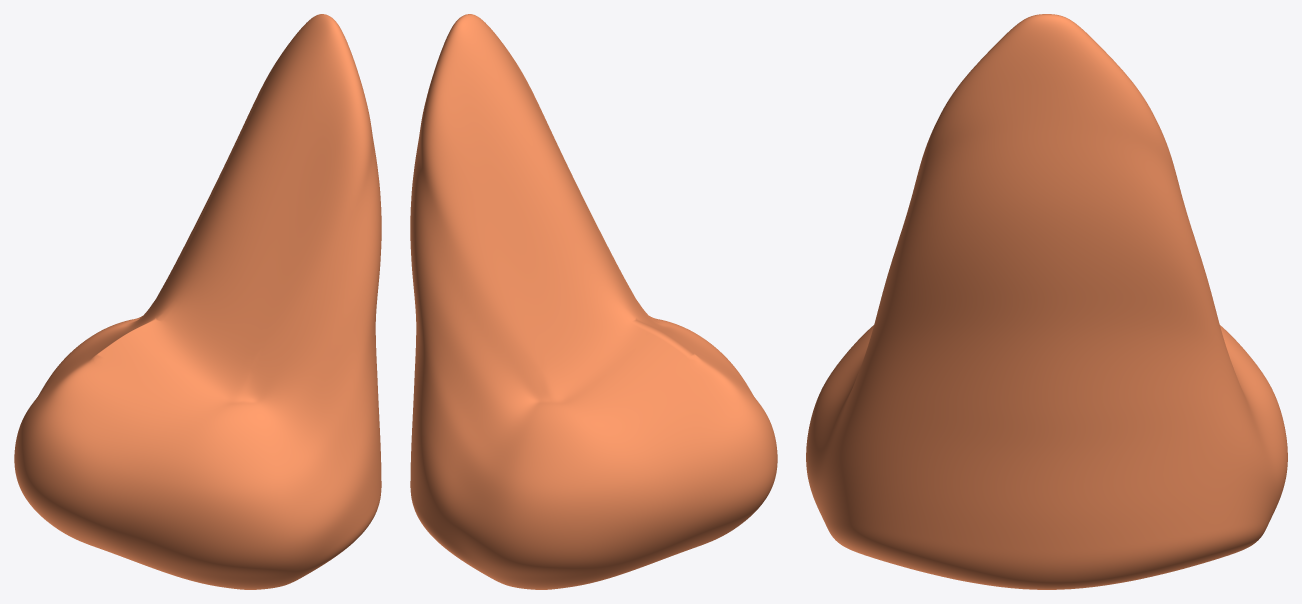
3 renders of one model, left to right at view 1: azimuth 30°, elevation 25°; view 2: azimuth 150°, elevation 25°; view 3: azimuth 270°, elevation 25°, orthographic. The views are drawn at different scales.
Visible parts, largest first — view 1: 球; view 2: 球; view 3: 球.
Part boxes in pixels (x1,y1,x2,y2): 球: [14, 14, 381, 589]; 球: [410, 14, 777, 589]; 球: [806, 14, 1287, 589].
Bounding box in the file's own units: 367 × 520 × 371.
